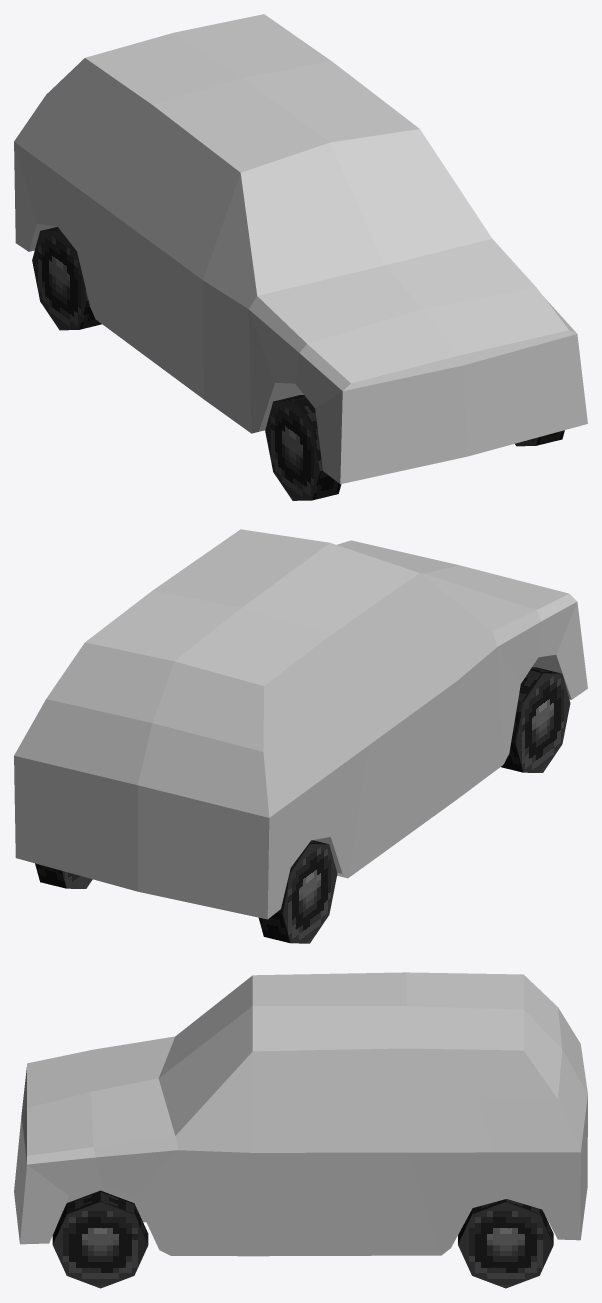
Rendered from Oka_V_0_1.fbx.
The picture shows the model from 3 angles, top to bottom: view 1: azimuth 30°, elevation 25°; view 2: azimuth 150°, elevation 25°; view 3: azimuth 270°, elevation 25°; orthographic projection. The views are drawn at different scales.
Parts seen in each view (by area): view 1: Oka, Wheel_F_R, Wheel_B_R; view 2: Oka, Wheel_F_R, Wheel_B_R, Wheel_B_L; view 3: Oka, Wheel_F_L, Wheel_B_L.
Boxes of the visible parts, x1,y1,x2,y2 form: Oka: (14, 14, 587, 484); Wheel_F_R: (265, 395, 341, 500); Wheel_B_R: (32, 226, 101, 330); Oka: (14, 529, 587, 919); Wheel_F_R: (501, 667, 570, 772); Wheel_B_R: (258, 840, 337, 943); Wheel_B_L: (35, 863, 92, 888); Oka: (14, 972, 587, 1256); Wheel_F_L: (52, 1190, 148, 1288); Wheel_B_L: (458, 1199, 553, 1288).
Size of the model in its own units: 143 by 141 by 320.
